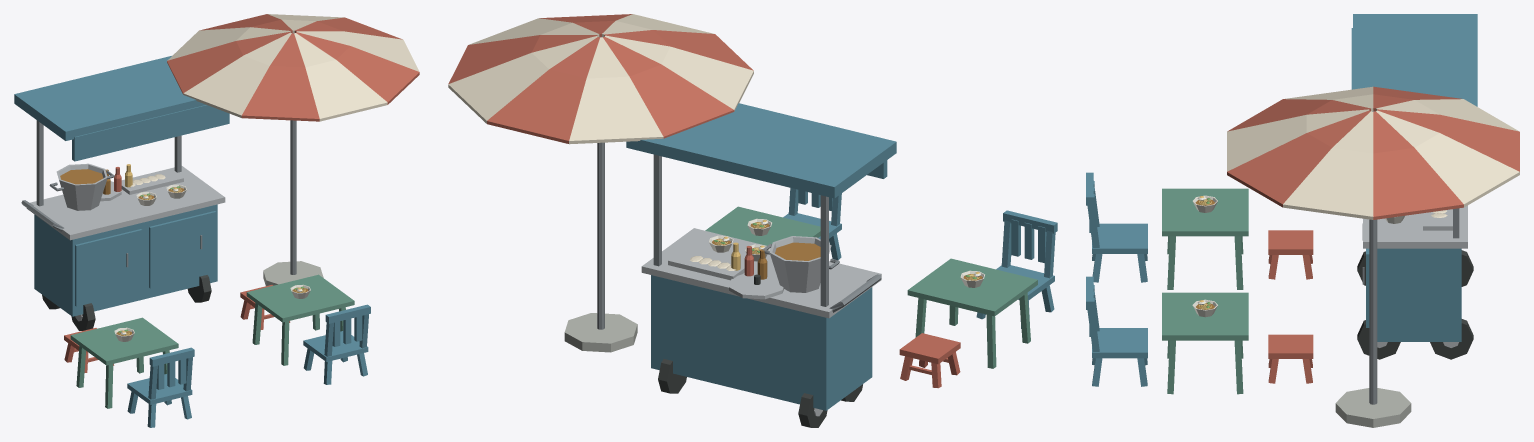
Rendered from MiQuangSpace.glb.
The picture shows the model from 3 angles, left to right: view 1: azimuth 30°, elevation 25°; view 2: azimuth 150°, elevation 25°; view 3: azimuth 270°, elevation 25°; orthographic projection. The views are drawn at different scales.
Visible parts, largest first — view 1: ST_MiQuangCounter_ST_blue.001, ST_StreetUmbrella_ST_red.001, ST_StreetUmbrella_ST_cream.001, ST_MiQuangCounter_ST_steel.001, ST_PlasticTableLow_ST_plastic_green.001, ST_PlasticTableLow_ST_plastic_green.002, ST_PlasticChairLow_ST_plastic_blue.001, ST_PlasticChairLow_ST_plastic_blue.002, ST_MiQuangCounter_PBK_Indochine_metal.001, ST_StreetUmbrella_PBK_Indochine_metal.001, ST_MiQuangCounter_ST_black.001, ST_Umbrella_Base.001 (+5 smaller); view 2: ST_MiQuangCounter_ST_blue.001, ST_StreetUmbrella_ST_cream.001, ST_StreetUmbrella_ST_red.001, ST_MiQuangCounter_ST_steel.001, ST_PlasticTableLow_ST_plastic_green.001, ST_PlasticChairLow_ST_plastic_blue.001, ST_MiQuangCounter_PBK_Indochine_metal.001, ST_Umbrella_Base.001, ST_PlasticTableLow_ST_plastic_green.002, ST_PlasticStoolLow_ST_plastic_red.001, ST_MiQuangCounter_ST_black.001, ST_StreetUmbrella_PBK_Indochine_metal.001 (+2 smaller); view 3: ST_MiQuangCounter_ST_blue.001, ST_StreetUmbrella_ST_cream.001, ST_StreetUmbrella_ST_red.001, ST_PlasticTableLow_ST_plastic_green.002, ST_PlasticTableLow_ST_plastic_green.001, ST_MiQuangCounter_ST_steel.001, ST_PlasticChairLow_ST_plastic_blue.001, ST_PlasticChairLow_ST_plastic_blue.002, ST_Umbrella_Base.001, ST_MiQuangCounter_ST_black.001, ST_StreetUmbrella_PBK_Indochine_metal.001, ST_PlasticStoolLow_ST_plastic_red.002 (+2 smaller).
Part boxes in pixels (x1,y1,x2,y2): ST_MiQuangCounter_ST_blue.001: (14,56,229,316); ST_StreetUmbrella_ST_red.001: (167,14,419,121); ST_StreetUmbrella_ST_cream.001: (167,14,419,121); ST_MiQuangCounter_ST_steel.001: (26,163,225,321); ST_PlasticTableLow_ST_plastic_green.001: (70,317,178,408); ST_PlasticTableLow_ST_plastic_green.002: (246,274,354,365); ST_PlasticChairLow_ST_plastic_blue.001: (127,347,194,427); ST_PlasticChairLow_ST_plastic_blue.002: (303,304,370,384); ST_MiQuangCounter_PBK_Indochine_metal.001: (21,120,202,267); ST_StreetUmbrella_PBK_Indochine_metal.001: (290,33,296,274); ST_MiQuangCounter_ST_black.001: (42,275,211,330); ST_Umbrella_Base.001: (263,261,323,285); ST_MiQuangCounter_ST_blue.001: (626,103,896,410); ST_StreetUmbrella_ST_cream.001: (448,14,753,144); ST_StreetUmbrella_ST_red.001: (448,14,753,143); ST_MiQuangCounter_ST_steel.001: (641,228,881,416); ST_PlasticTableLow_ST_plastic_green.001: (907,258,1037,368); ST_PlasticChairLow_ST_plastic_blue.001: (976,210,1057,328); ST_MiQuangCounter_PBK_Indochine_metal.001: (653,154,881,312); ST_Umbrella_Base.001: (564,313,637,352); ST_PlasticTableLow_ST_plastic_green.002: (705,206,820,245); ST_PlasticStoolLow_ST_plastic_red.001: (899,333,960,388); ST_MiQuangCounter_ST_black.001: (658,274,862,427); ST_StreetUmbrella_PBK_Indochine_metal.001: (597,37,604,329); ST_MiQuangCounter_ST_blue.001: (1351,14,1477,341); ST_StreetUmbrella_ST_cream.001: (1227,86,1519,219); ST_StreetUmbrella_ST_red.001: (1227,86,1519,219); ST_PlasticTableLow_ST_plastic_green.002: (1162,292,1248,394); ST_PlasticTableLow_ST_plastic_green.001: (1162,188,1248,289); ST_MiQuangCounter_ST_steel.001: (1363,205,1467,347); ST_PlasticChairLow_ST_plastic_blue.001: (1086,172,1147,282); ST_PlasticChairLow_ST_plastic_blue.002: (1086,276,1147,386); ST_Umbrella_Base.001: (1335,388,1411,427); ST_MiQuangCounter_ST_black.001: (1357,250,1473,359); ST_StreetUmbrella_PBK_Indochine_metal.001: (1369,111,1377,404); ST_PlasticStoolLow_ST_plastic_red.002: (1268,334,1313,383).
Bounding box in the file's own units: 3.84 × 2.38 × 3.1.
